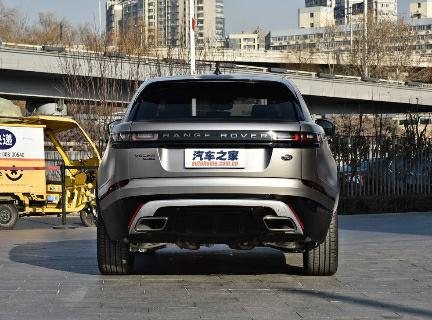路虎-揽胜星脉: (86, 69, 347, 284)
